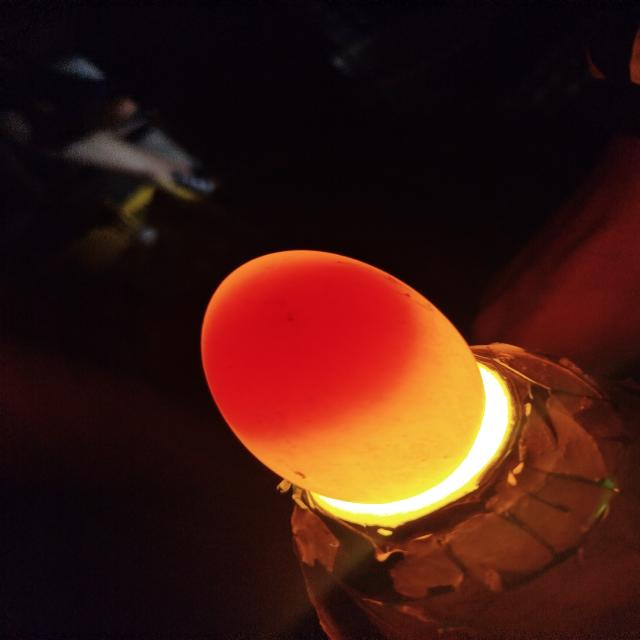Gema Quebrada: (202, 260, 418, 441)
